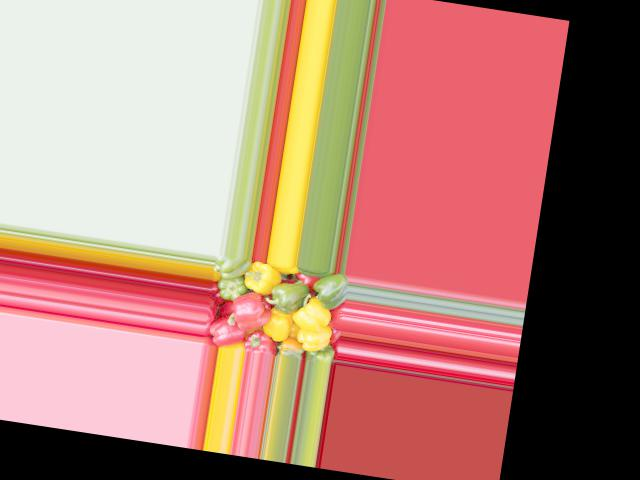bell_pepper: (302, 344, 334, 364)
